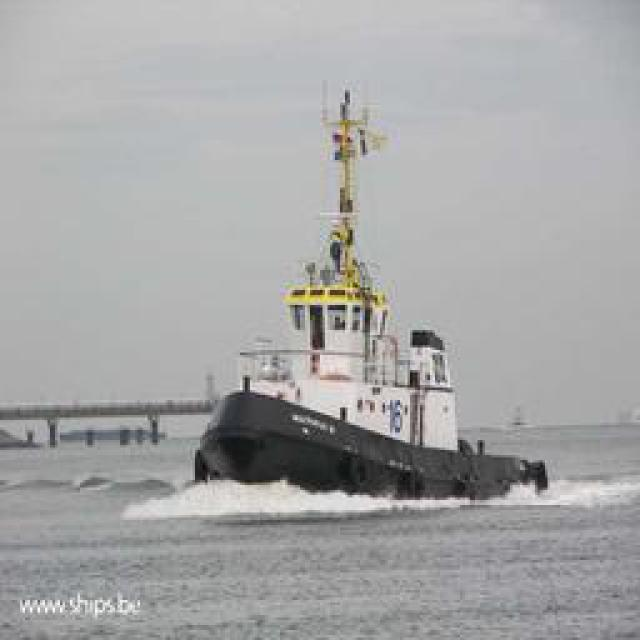Ship: (190, 122, 543, 495)
